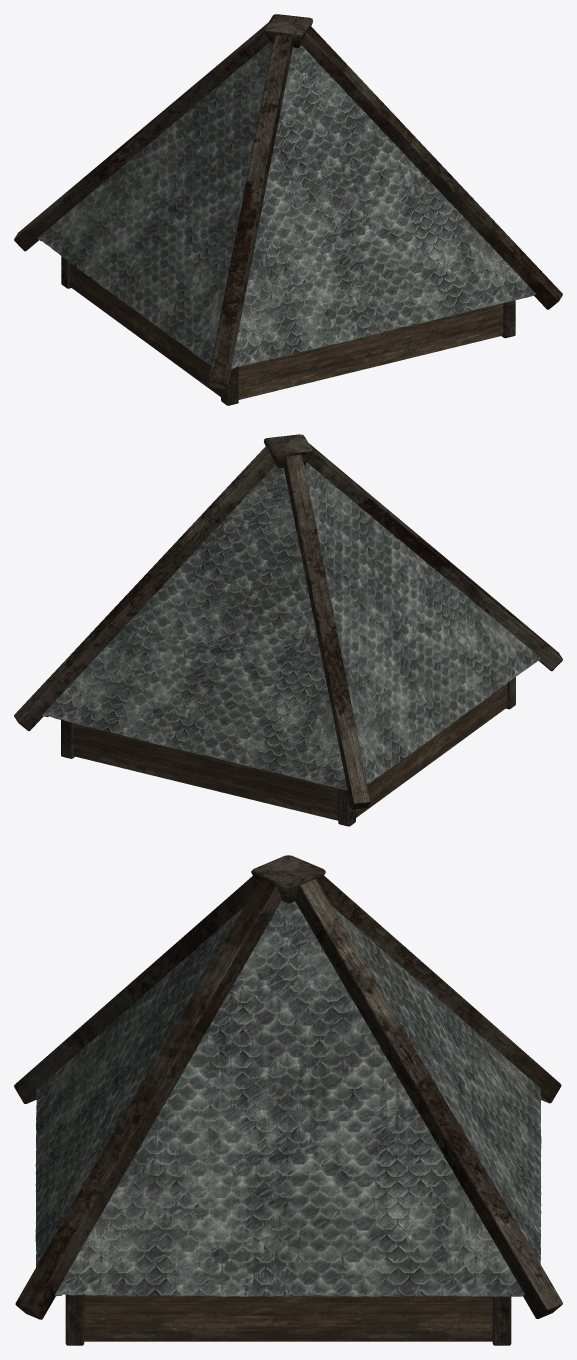
The model's file is TowerRoof_Square.fbx.
The picture shows the model from 3 angles, top to bottom: view 1: azimuth 30°, elevation 25°; view 2: azimuth 150°, elevation 25°; view 3: azimuth 270°, elevation 25°; orthographic projection. The views are drawn at different scales.
Parts seen in each view (by area): view 1: Square Pyramid Tower Roof Top; view 2: Square Pyramid Tower Roof Top; view 3: Square Pyramid Tower Roof Top.
Boxes of the visible parts, box(x1,y1,x2,y2) form: Square Pyramid Tower Roof Top: box(14, 14, 562, 405); Square Pyramid Tower Roof Top: box(14, 434, 562, 826); Square Pyramid Tower Roof Top: box(14, 855, 562, 1345).
Bounding box in the file's own units: 736 × 566 × 736.
